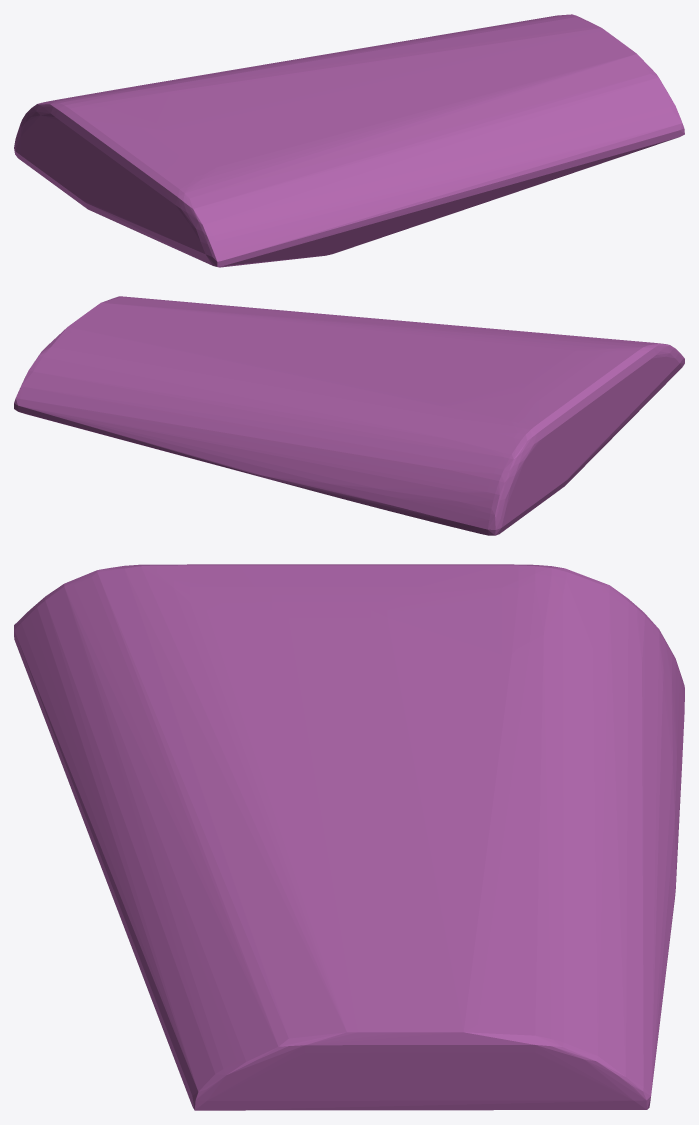
Rendered from right_elbow_link_part_7.obj.
3 renders of one model, top to bottom at view 1: azimuth 30°, elevation 25°; view 2: azimuth 150°, elevation 25°; view 3: azimuth 270°, elevation 25°, orthographic. The views are drawn at different scales.
Size of the model in its own units: 0.0901 by 0.0137 by 0.0605.
